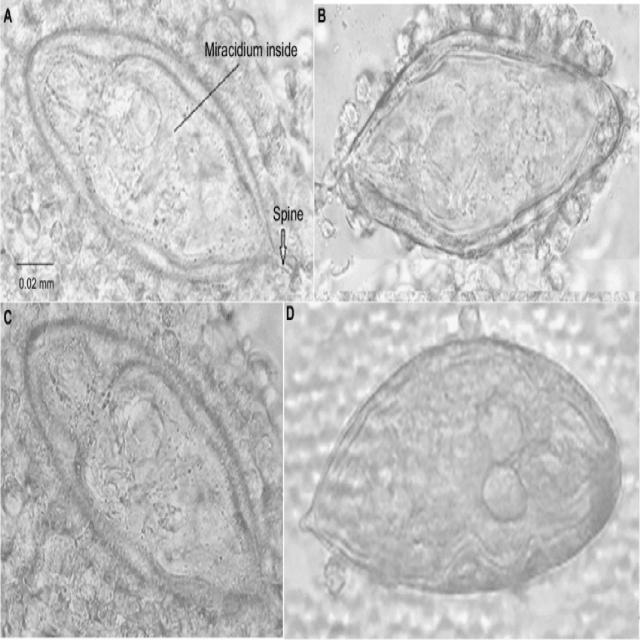Schistosoma: (296, 317, 625, 604), (16, 310, 268, 618), (18, 20, 291, 294), (322, 30, 626, 264)
